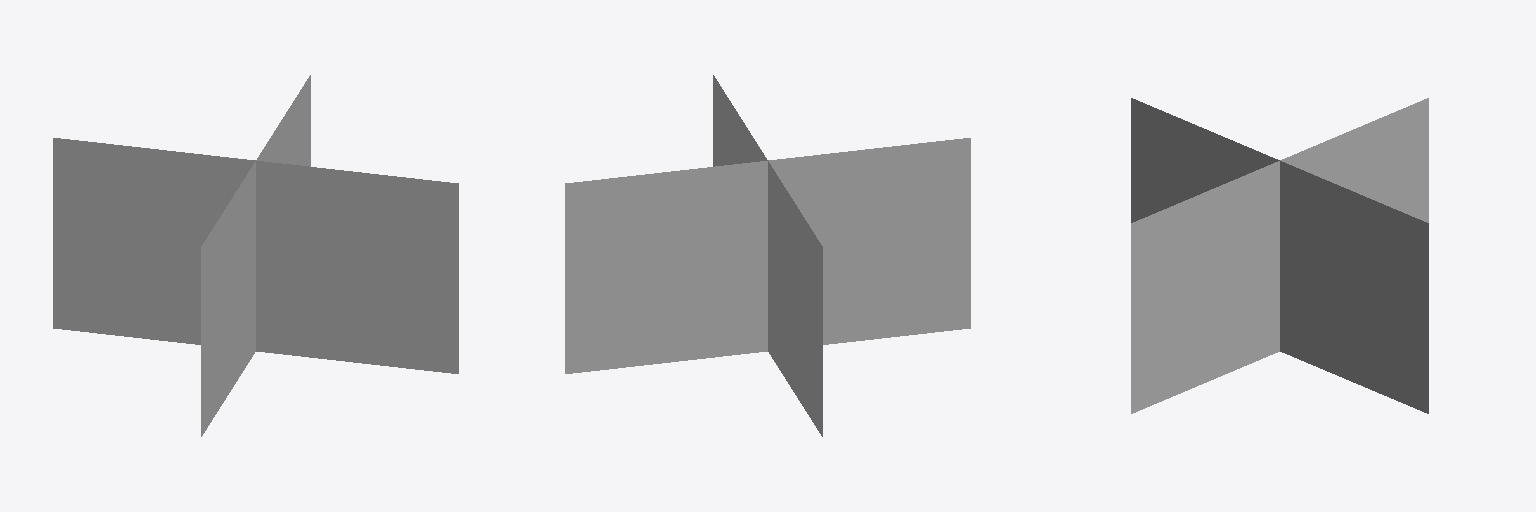
The model's file is nitrite_thorns_stage0.obj.
3 renders of one model, left to right at view 1: azimuth 30°, elevation 25°; view 2: azimuth 150°, elevation 25°; view 3: azimuth 270°, elevation 25°, orthographic.
Visible parts, largest first — view 1: cube_1, cube_2; view 2: cube_2, cube_1; view 3: cube_1, cube_2.
Part boxes in pixels (left/top/right/bottom): cube_1: left=53, top=138, right=458, bottom=373; cube_2: left=201, top=75, right=310, bottom=436; cube_2: left=565, top=138, right=970, bottom=373; cube_1: left=713, top=75, right=822, bottom=436; cube_1: left=1131, top=98, right=1428, bottom=413; cube_2: left=1131, top=98, right=1428, bottom=413.
Bounding box in the file's own units: 0.3536 × 0.25 × 0.3536.